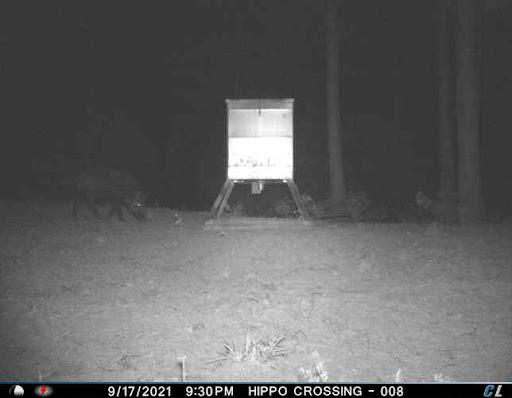Hog: (69, 159, 155, 227)
